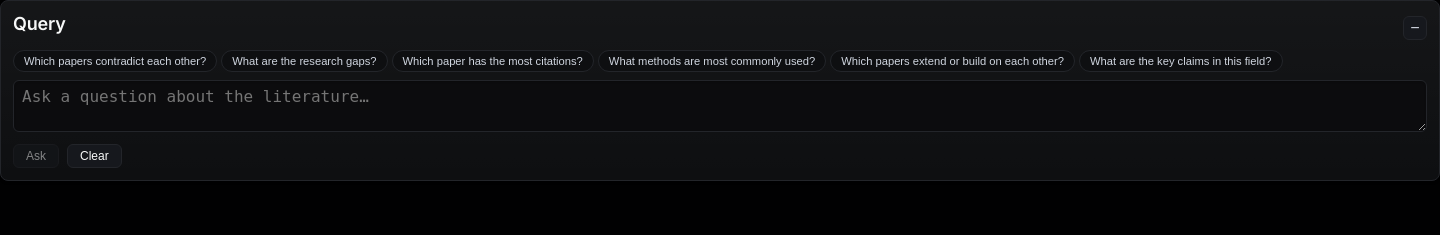
Scenario: QueryInterface › shows an error banner when the query fails
The width and height of the screenshot is (1440, 235).
Type "q" into the text box with test id "query-input" at (720, 106), box [13,80,1427,132]
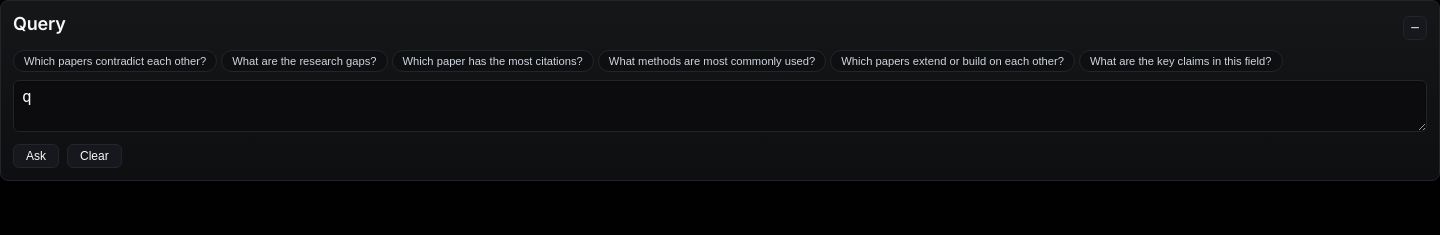
Click the button with test id "query-ask" at (36, 156), box [13,144,59,168]
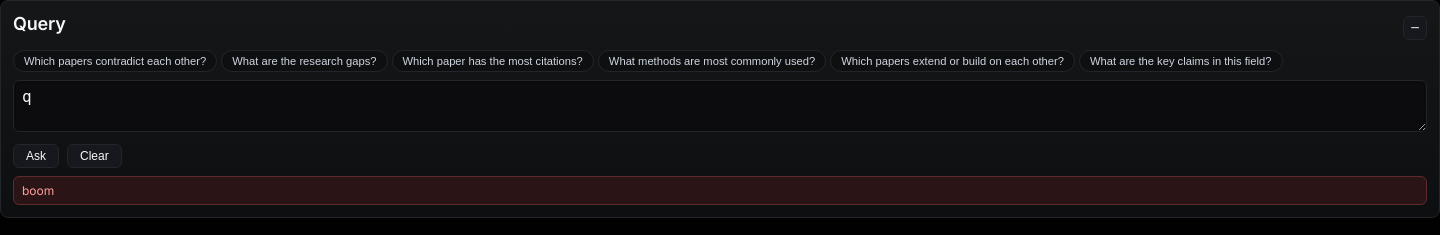
Result: the text with test id "query-error" reads "boom" at [22,183,54,198]
